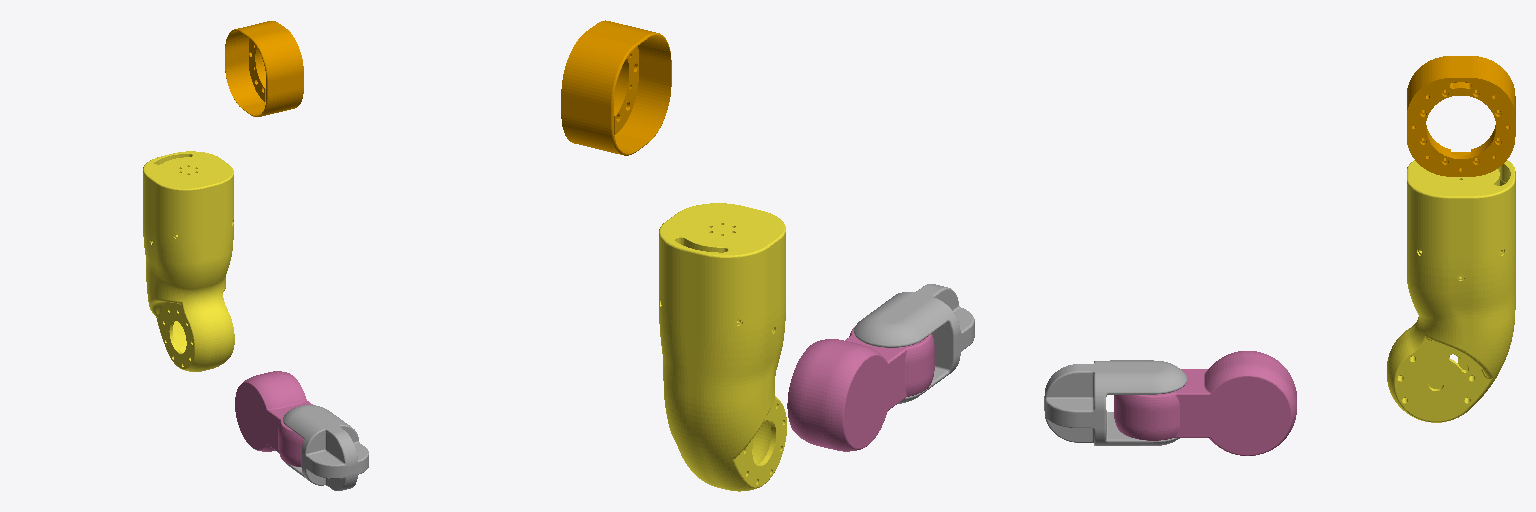
URDF robot description (right_arm_urdf):
<?xml version='1.0' encoding='utf-8'?>
<robot name="right_arm_urdf">
    <link name="base_link">
        <inertial>
            <origin xyz="-0.02219419112360491 -4.530916702133214e-08 0.007507772167539291" rpy="0.0 0.0 0.0" />
            <mass value="1.2" />
            <inertia ixx="0.002464934686584595" iyy="0.0045866084676240235" izz="0.005051037397006654" ixy="-2.710071457699112e-09" iyz="-3.7252352990680495e-10" ixz="-0.00018618626416246005" />
        </inertial>
        <visual name="base_link_visual">
            <origin xyz="0.0 0.0 0.0" rpy="0.0 0.0 0.0" />
            <geometry>
                <mesh filename="meshes/base_link.stl" scale="0.001 0.001 0.001" />
            </geometry>
        </visual>
        <collision name="base_link_collision">
            <origin xyz="0.0 0.0 0.0" rpy="0.0 0.0 0.0" />
            <geometry>
                <mesh filename="meshes/base_link.stl" scale="0.001 0.001 0.001" />
            </geometry>
        </collision>
    </link>
    <link name="link_1">
        <inertial>
            <origin xyz="-0.0007577300081050076 0.0010590189627575854 0.07808198034339664" rpy="0.0 -0.0 0.0" />
            <mass value="1.1" />
            <inertia ixx="0.0027509279308283027" iyy="0.003178748994394257" izz="0.001923887184594844" ixy="-8.823023990835466e-07" iyz="-5.5895064410492374e-05" ixz="-2.7988796485749635e-05" />
        </inertial>
        <visual name="link_1_visual">
            <origin xyz="4.517219931443605e-16 3.3306690738754695e-18 0.034499999999999996" rpy="-3.141592653589793 -1.5707963267948966 0" />
            <geometry>
                <mesh filename="meshes/link_1.stl" scale="0.001 0.001 0.001" />
            </geometry>
        </visual>
        <collision name="link_1_collision">
            <origin xyz="4.517219931443605e-16 3.3306690738754695e-18 0.034499999999999996" rpy="-3.141592653589793 -1.5707963267948966 0" />
            <geometry>
                <mesh filename="meshes/link_1.stl" scale="0.001 0.001 0.001" />
            </geometry>
        </collision>
    </link>
    <link name="link_2">
        <inertial>
            <origin xyz="-9.452087555317235e-08 0.03938182416817564 0.025628422324417675" rpy="0.0 -0.0 0.0" />
            <mass value="1.1" />
            <inertia ixx="0.0032557625479906547" iyy="0.0024763038589973004" izz="0.0027082048507644334" ixy="-4.467897115722171e-09" iyz="-0.0001833230827248399" ixz="-3.3819253111872607e-09" />
        </inertial>
        <visual name="link_2_visual">
            <origin xyz="0.0 0.08499999999999958 0.030000000000000006" rpy="-1.5707963267948966 -0.0 3.141592653589793" />
            <geometry>
                <mesh filename="meshes/link_2.stl" scale="0.001 0.001 0.001" />
            </geometry>
        </visual>
        <collision name="link_2_collision">
            <origin xyz="0.0 0.08499999999999958 0.030000000000000006" rpy="-1.5707963267948966 -0.0 3.141592653589793" />
            <geometry>
                <mesh filename="meshes/link_2.stl" scale="0.001 0.001 0.001" />
            </geometry>
        </collision>
    </link>
    <link name="link_3">
        <inertial>
            <origin xyz="0.0005474751467892247 0.004395092699064467 0.14459779316543017" rpy="0.0 -0.0 0.0" />
            <mass value="0.9" />
            <inertia ixx="0.0075423272650875" iyy="0.007341456414073739" izz="0.0020228109754861457" ixy="-1.3101787560040383e-05" iyz="-0.0003885662207841808" ixz="-5.9885617357724654e-05" />
        </inertial>
        <visual name="link_3_visual">
            <origin xyz="-3.3141347444143324e-11 -4.4408924459164835e-18 0.045399999999999566" rpy="3.141592653589793 -0.0 -1.5707963267948968" />
            <geometry>
                <mesh filename="meshes/link_3.stl" scale="0.001 0.001 0.001" />
            </geometry>
        </visual>
        <collision name="link_3_collision">
            <origin xyz="-3.3141347444143324e-11 -4.4408924459164835e-18 0.045399999999999566" rpy="3.141592653589793 -0.0 -1.5707963267948968" />
            <geometry>
                <mesh filename="meshes/link_3.stl" scale="0.001 0.001 0.001" />
            </geometry>
        </collision>
    </link>
    <link name="link_4">
        <inertial>
            <origin xyz="0.02793990024488851 0.02457911509649229 -0.04242267596520543" rpy="0.0 -0.0 0.0" />
            <mass value="0.7" />
            <inertia ixx="0.0017511262812400523" iyy="0.0019311142129909387" izz="0.0015670166592037214" ixy="-3.47178865615822e-05" iyz="0.0003306249701812561" ixz="6.044802717977267e-05" />
        </inertial>
        <visual name="link_4_visual">
            <origin xyz="0.029999999966858794 0.03535533905932709 -0.11535533905935298" rpy="-1.5707963267948966 1.2767564783189302e-15 -3.141592653589793" />
            <geometry>
                <mesh filename="meshes/link_4.stl" scale="0.001 0.001 0.001" />
            </geometry>
        </visual>
        <collision name="link_4_collision">
            <origin xyz="0.029999999966858794 0.03535533905932709 -0.11535533905935298" rpy="-1.5707963267948966 1.2767564783189302e-15 -3.141592653589793" />
            <geometry>
                <mesh filename="meshes/link_4.stl" scale="0.001 0.001 0.001" />
            </geometry>
        </collision>
    </link>
    <link name="link_5">
        <inertial>
            <origin xyz="-0.0036111048774266586 2.016195566056922e-08 -0.09561626622593322" rpy="0.0 1.3306124500025468e-110 0.0" />
            <mass value="0.25" />
            <inertia ixx="0.00040141840971230733" iyy="0.0005578642105019657" izz="0.0004411865214170637" ixy="1.0636111197275597e-10" iyz="3.940381924023709e-11" ixz="-2.7661099770538973e-05" />
        </inertial>
        <visual name="link_5_visual">
            <origin xyz="-3.314154284339565e-11 6.679687203359208e-09 -0.05139999905935286" rpy="-1.5707963267948966 -1.5265566588595883e-16 -3.141592653589793" />
            <geometry>
                <mesh filename="meshes/link_5.stl" scale="0.001 0.001 0.001" />
            </geometry>
        </visual>
        <collision name="link_5_collision">
            <origin xyz="-3.314154284339565e-11 6.679687203359208e-09 -0.05139999905935286" rpy="-1.5707963267948966 -1.5265566588595883e-16 -3.141592653589793" />
            <geometry>
                <mesh filename="meshes/link_5.stl" scale="0.001 0.001 0.001" />
            </geometry>
        </collision>
    </link>
    <link name="link_6">
        <inertial>
            <origin xyz="3.3220617723372925e-09 -0.034425285195078675 -0.03000000000003274" rpy="0.0 -0.0 0.0" />
            <mass value="0.7" />
            <inertia ixx="0.0019515003826701574" iyy="0.000541057433900376" izz="0.0020372331612858183" ixy="-6.376913051718549e-13" iyz="7.994204963026339e-13" ixz="3.767242665246578e-13" />
        </inertial>
        <visual name="link_6_visual">
            <origin xyz="3.320312771393219e-09 9.406471335182687e-10 -0.029999999966858582" rpy="-3.141592653589793 -1.5707963267948963 0" />
            <geometry>
                <mesh filename="meshes/link_6.stl" scale="0.001 0.001 0.001" />
            </geometry>
        </visual>
        <collision name="link_6_collision">
            <origin xyz="3.320312771393219e-09 9.406471335182687e-10 -0.029999999966858582" rpy="-3.141592653589793 -1.5707963267948963 0" />
            <geometry>
                <mesh filename="meshes/link_6.stl" scale="0.001 0.001 0.001" />
            </geometry>
        </collision>
    </link>
    <link name="link_end">
        <inertial>
            <origin xyz="-5.69913822801027e-10 -0.048356231672536866 -0.02500000425061245" rpy="0.0 -0.0 0.0" />
            <mass value="0.5" />
            <inertia ixx="0.000899072004870684" iyy="0.00045641122733420863" izz="0.0007575389658238828" ixy="-3.277638653882074e-11" iyz="-6.210530862684893e-11" ixz="-1.0536480714094218e-10" />
        </inertial>
        <visual name="link_end_visual">
            <origin xyz="-3.3141418498416895e-11 0.04000000094064714 -0.02499999667968723" rpy="6.123233995736788e-17 -4.898587196589413e-16 3.141592653589793" />
            <geometry>
                <mesh filename="meshes/link_end.stl" scale="0.001 0.001 0.001" />
            </geometry>
        </visual>
        <collision name="link_end_collision">
            <origin xyz="-3.3141418498416895e-11 0.04000000094064714 -0.02499999667968723" rpy="6.123233995736788e-17 -4.898587196589413e-16 3.141592653589793" />
            <geometry>
                <mesh filename="meshes/link_end.stl" scale="0.001 0.001 0.001" />
            </geometry>
        </collision>
    </link>
    <joint name="joint_1" type="revolute">
        <origin xyz="-0.105 0.0 0.0" rpy="-0.0 -1.5707963267948966 0" />
        <parent link="base_link" />
        <child link="link_1" />
        <axis xyz="0.0 0.0 1.0" />
        <limit lower="-3.141592653589793" upper="3.141592653589793" effort="50" velocity="2.0" />
    </joint>
    <joint name="joint_2" type="revolute">
        <origin xyz="0.0 -0.03 0.1195" rpy="-1.5707963267948966 1.5707963267948966 0" />
        <parent link="link_1" />
        <child link="link_2" />
        <axis xyz="0.0 0.0 -1.0" />
        <limit lower="-3.141592653589793" upper="3.141592653589793" effort="50" velocity="2.0" />
    </joint>
    <joint name="joint_3" type="revolute">
        <origin xyz="0.0 0.0716 0.03" rpy="-1.5707963267948966 -0.0 0.0" />
        <parent link="link_2" />
        <child link="link_3" />
        <axis xyz="0.0 -0.0 1.0" />
        <limit lower="-3.141592653589793" upper="3.141592653589793" effort="50" velocity="2.0" />
    </joint>
    <joint name="joint_4" type="revolute">
        <origin xyz="-0.03 0.025 0.2654" rpy="1.5707963267948966 -0.0 0.0" />
        <parent link="link_3" />
        <child link="link_4" />
        <axis xyz="-1.0 -0.0 0.0" />
        <limit lower="-3.141592653589793" upper="3.141592653589793" effort="50" velocity="2.0" />
    </joint>
    <joint name="joint_5" type="revolute">
        <origin xyz="0.03 0.035355339999999985 -0.06395534" rpy="0.0 1.9721522630525295e-31 1.0947644252537633e-47" />
        <parent link="link_4" />
        <child link="link_5" />
        <axis xyz="1.9721522630525295e-31 0.0 -1.0" />
        <limit lower="-3.141592653589793" upper="3.141592653589793" effort="50" velocity="2.0" />
    </joint>
    <joint name="joint_6" type="revolute">
        <origin xyz="-0.03 9.999999974752428e-09 -0.12639999999999998" rpy="1.5707963267948966 -1.2154326714572542e-63 -1.5707963267948966" />
        <parent link="link_5" />
        <child link="link_6" />
        <axis xyz="0.0 -9.654305461537994e-33 -1.0" />
        <limit lower="-3.141592653589793" upper="3.141592653589793" effort="50" velocity="2.0" />
    </joint>
    <joint name="joint_7" type="revolute">
        <origin xyz="0.025 -0.095 -0.03" rpy="-0.0 1.5707963267948966 0" />
        <parent link="link_6" />
        <child link="link_end" />
        <axis xyz="0.0 0.0 1.0" />
        <limit lower="-3.141592653589793" upper="3.141592653589793" effort="50" velocity="2.0" />
    </joint>
</robot>

--- Facts derived from the render (not from the file) ---
The picture shows the robot from 3 angles, left to right: view 1: azimuth 30°, elevation 25°; view 2: azimuth 150°, elevation 25°; view 3: azimuth 270°, elevation 25°; orthographic projection.
Robot: right_arm_urdf — 8 links, 7 joints (7 revolute); root link base_link; default pose: every joint at zero.
Visible links, largest first — view 1: link_3, base_link, link_end, link_6; view 2: link_3, base_link, link_6, link_end; view 3: link_3, link_6, base_link, link_end.
Link boxes in pixels (box(x1,y1,x2,y2)): link_3: box(143, 151, 234, 371); base_link: box(225, 21, 303, 116); link_end: box(283, 405, 368, 490); link_6: box(235, 371, 312, 466); link_3: box(659, 203, 786, 491); base_link: box(561, 20, 671, 155); link_6: box(787, 327, 934, 451); link_end: box(854, 284, 974, 403); link_3: box(1387, 160, 1515, 422); link_6: box(1114, 351, 1296, 455); base_link: box(1407, 56, 1515, 176); link_end: box(1044, 360, 1186, 445).
Size in the robot's own frame: 0.1945 by 0.4754 by 0.4773 metres.
4 mesh visuals loaded from 8 distinct referenced files (4 binary STL); not drawn: 4 (reference not matched to a file when rendering).
